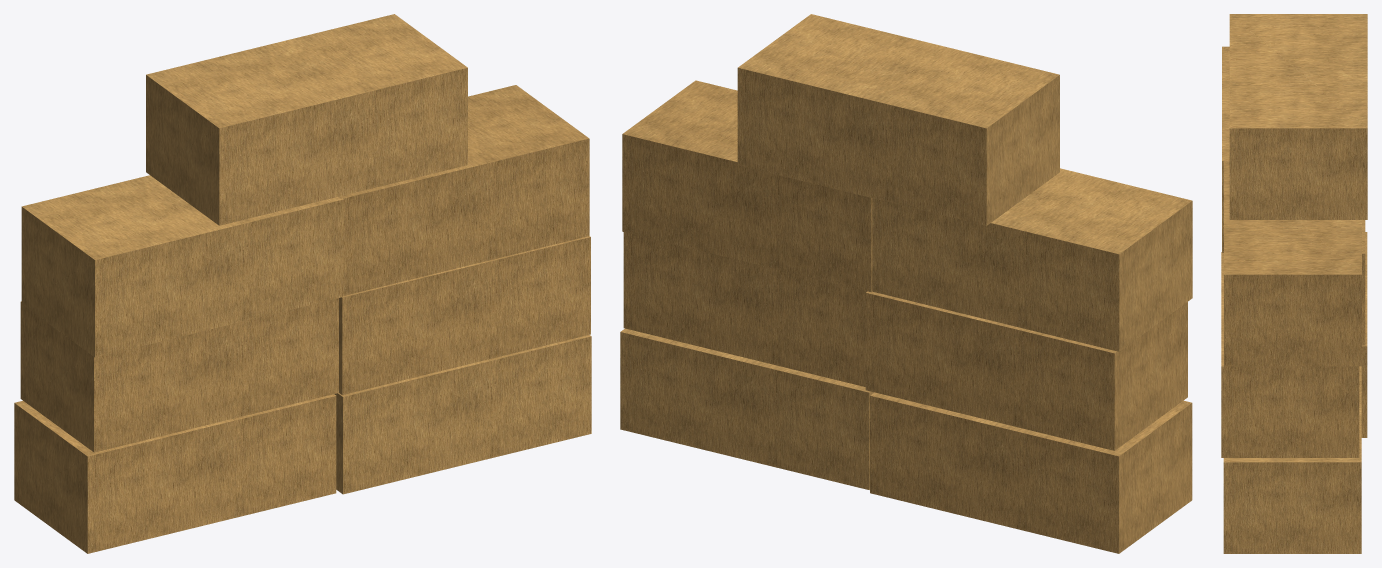
The model's file is straw_bale_stack.glb.
3 views of the same model, side by side, from view 1: azimuth 30°, elevation 25°; view 2: azimuth 150°, elevation 25°; view 3: azimuth 270°, elevation 25° (orthographic). The views are drawn at different scales.
Parts seen in each view (by area): view 1: StrawBaleStack; view 2: StrawBaleStack; view 3: StrawBaleStack.
Boxes of the visible parts, <box> form: StrawBaleStack: <box>14,14,591,553</box>; StrawBaleStack: <box>620,14,1192,553</box>; StrawBaleStack: <box>1221,14,1367,553</box>.
Bounding box in the file's own units: 4.74 × 3.55 × 1.27.
1 material, 1 textured.
